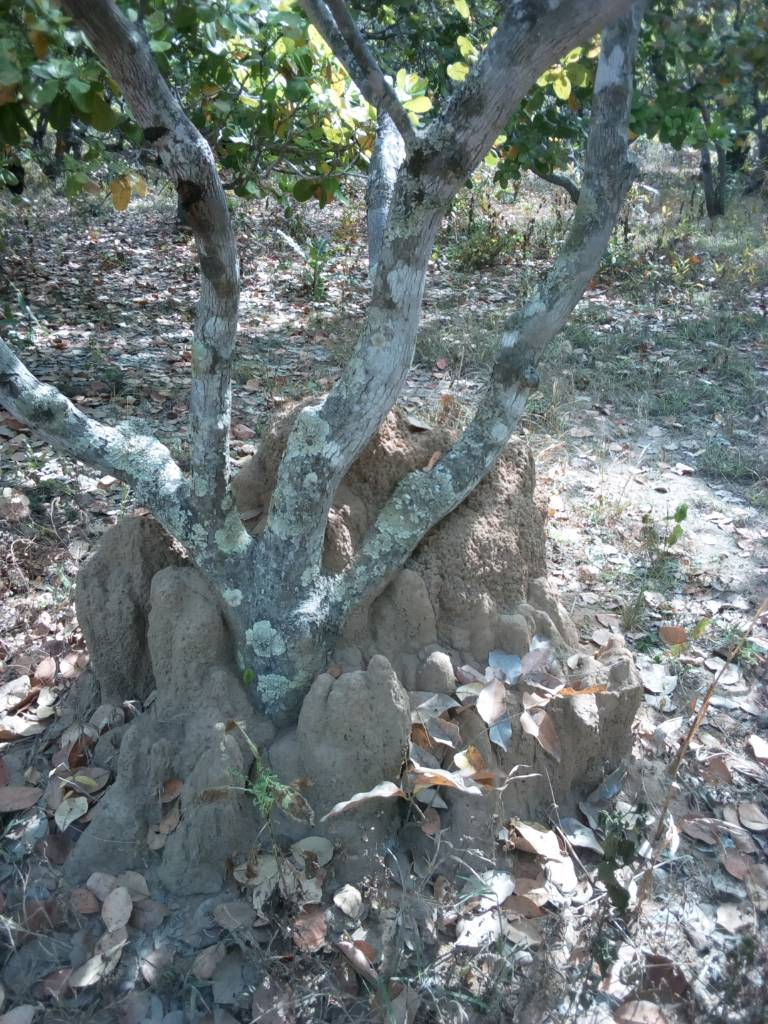Termites: (135, 571, 232, 852), (300, 666, 418, 852), (466, 472, 544, 649), (488, 682, 633, 775)
